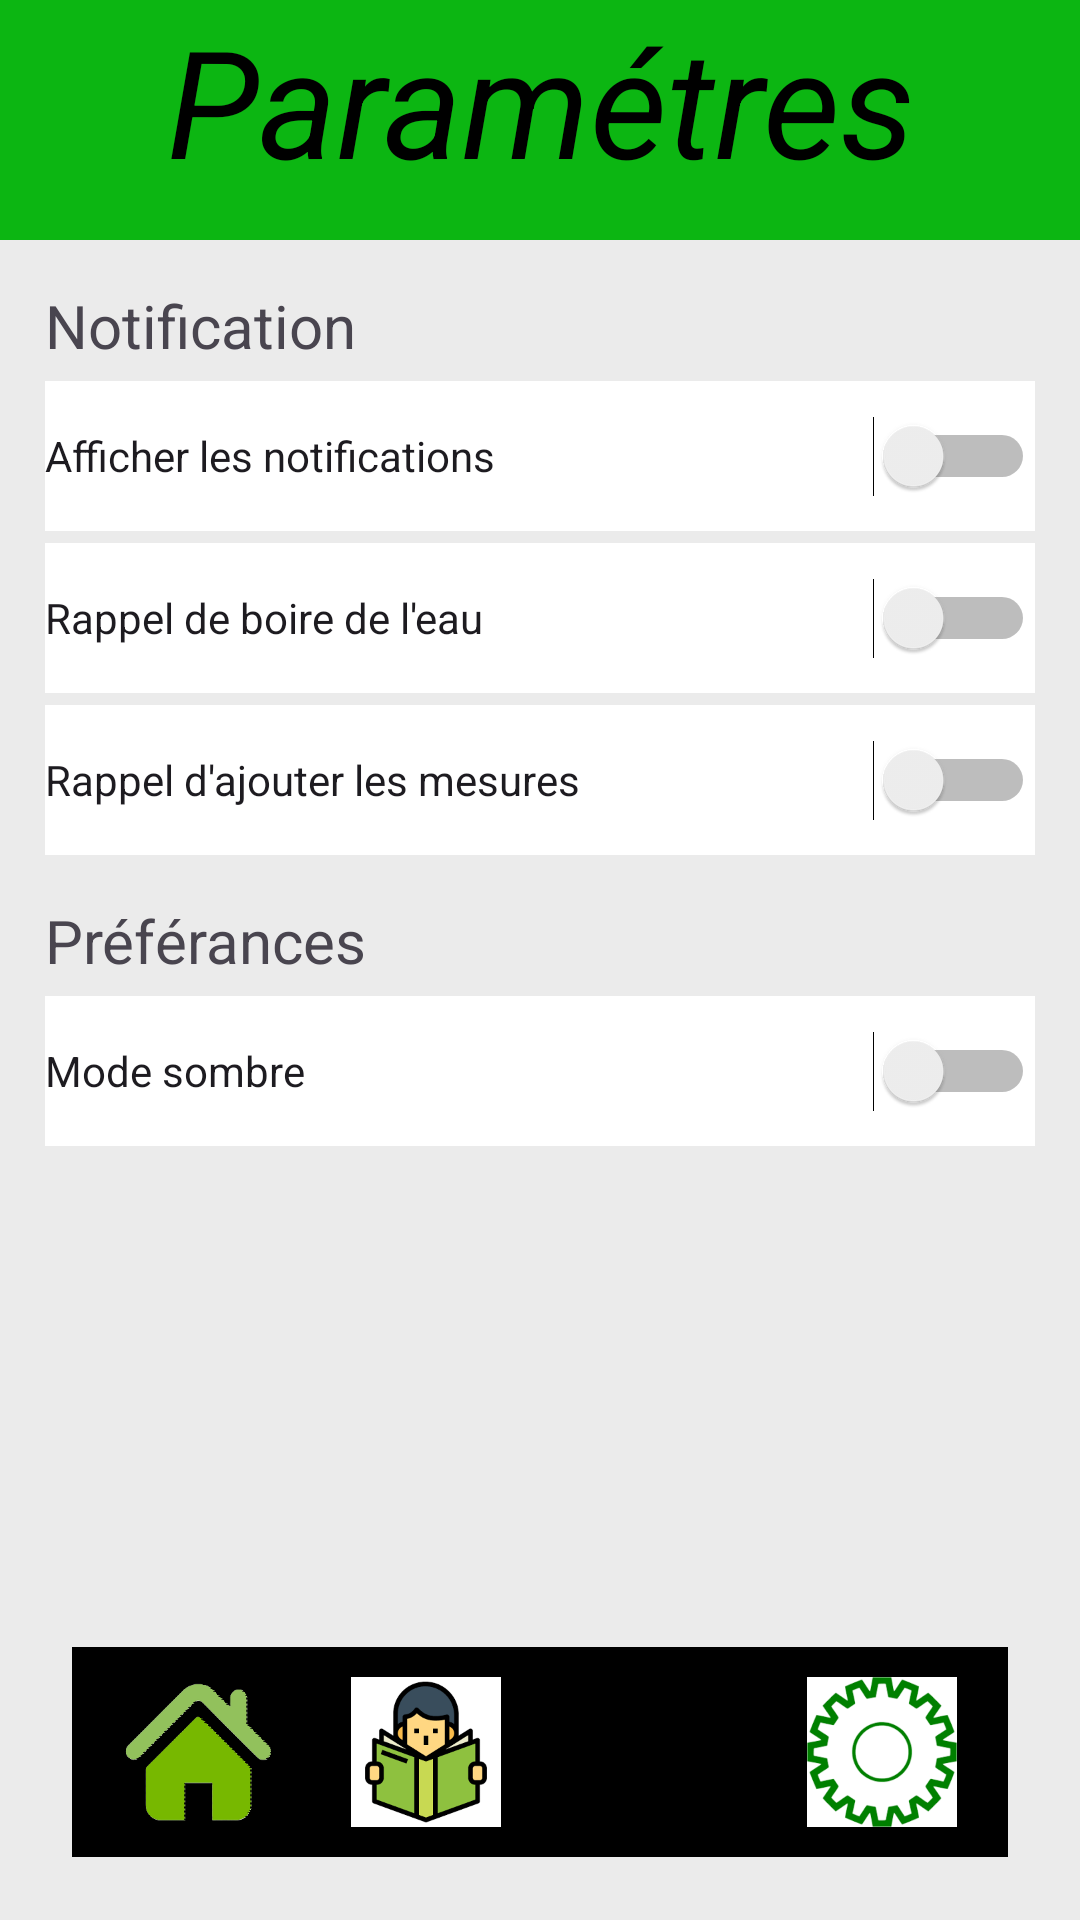

Locate icon controls on the screen. Image size 1080px x 1920px, boxes as [x1, y1, x2, y2].
guide: [351, 1677, 501, 1827]
home: [126, 1684, 271, 1821]
setting: [807, 1677, 957, 1827]
